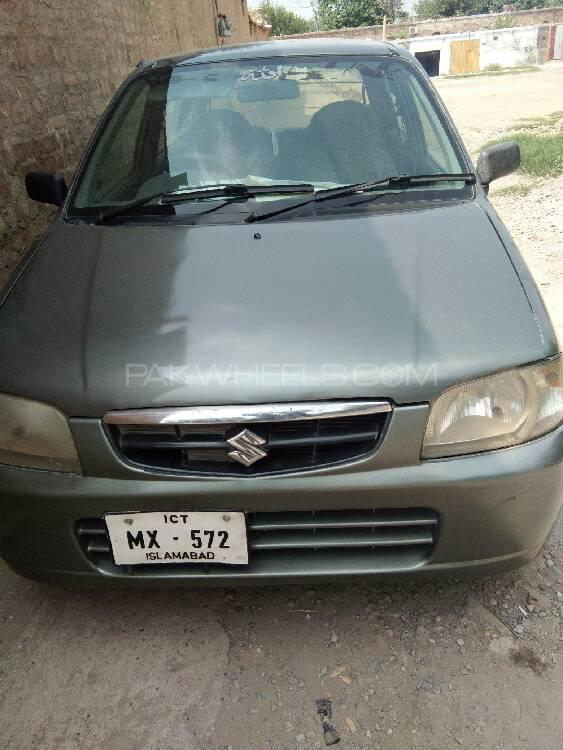license plate: (112, 512, 247, 561)
